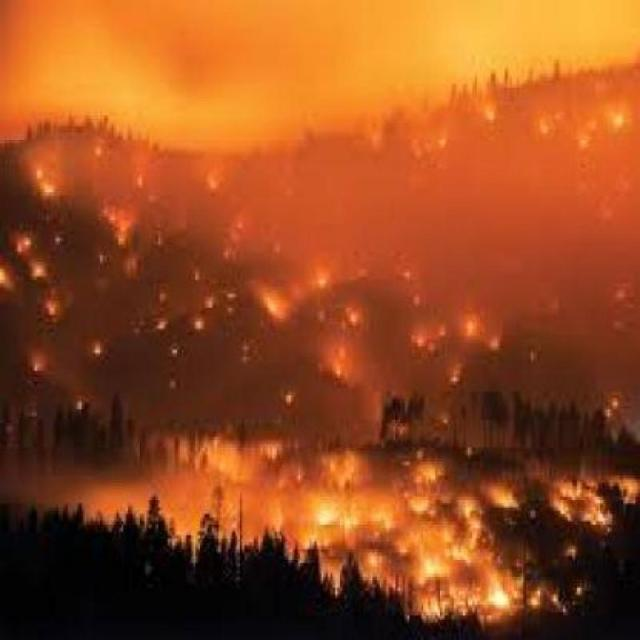Fire: (83, 420, 640, 632), (89, 145, 514, 418), (455, 78, 640, 175), (0, 208, 65, 384)
